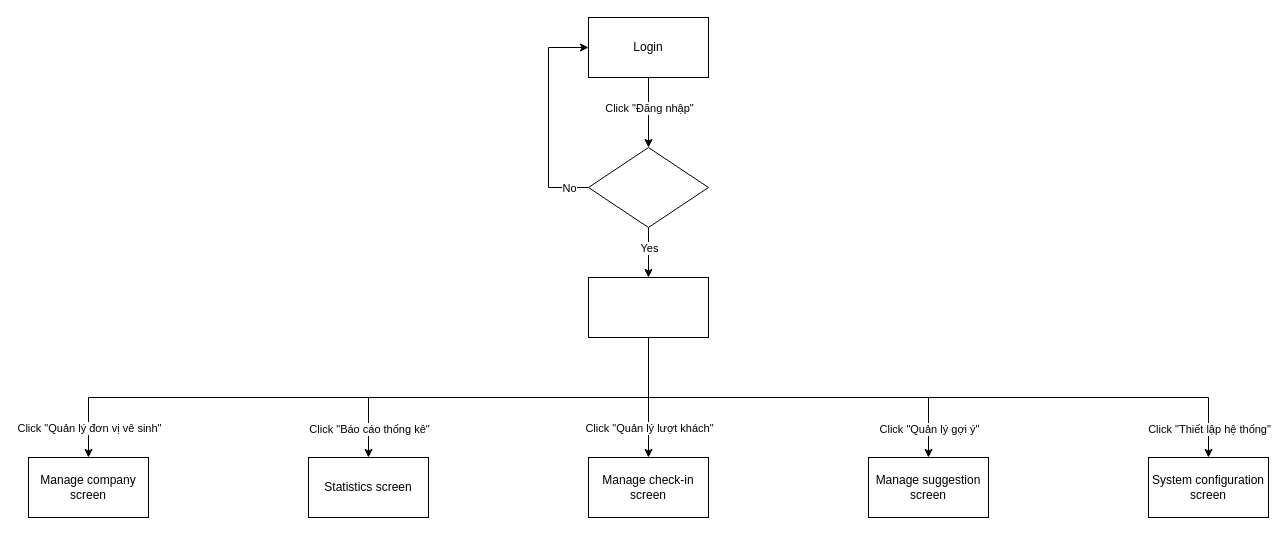
This 1288x535 diagram has some shape labels left out. The box of each missing label's shape, as (x1, y1, x2, y2) in pixels:
Is logged successfully?: (588, 146, 708, 228)
Main menu: (588, 276, 708, 338)
